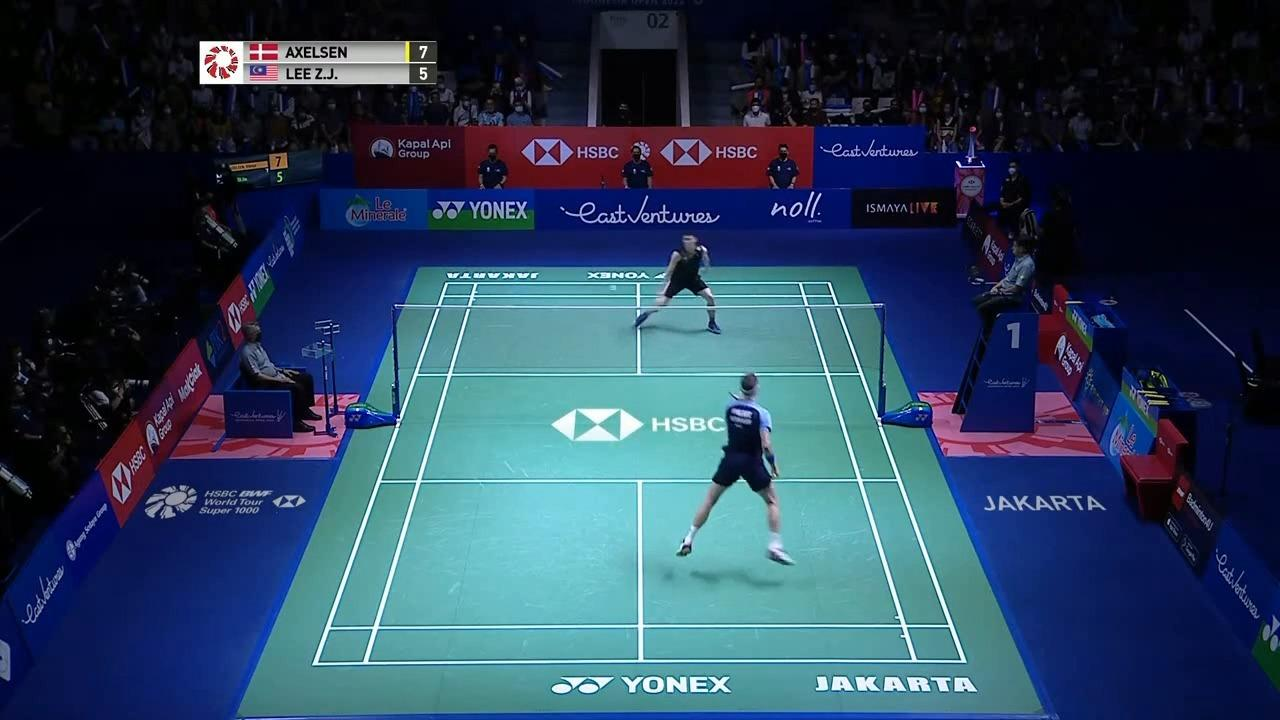shuttle: (606, 284, 621, 294)
